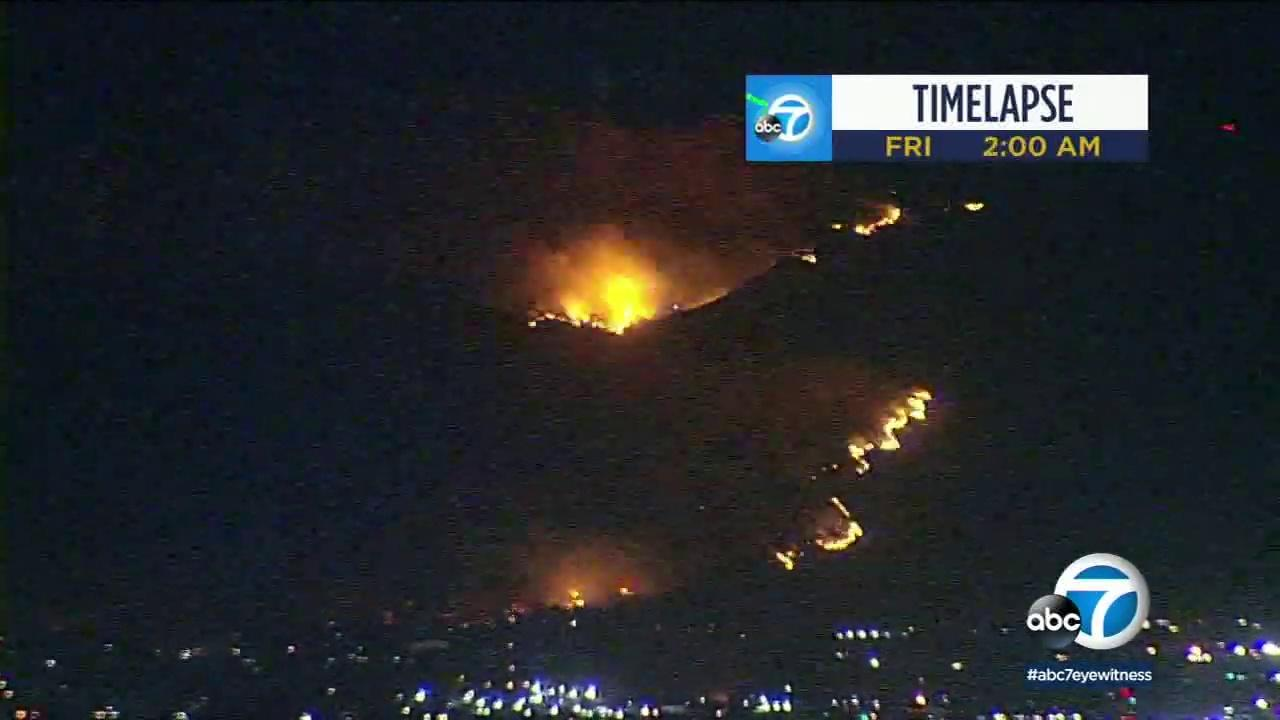Fire: (530, 237, 658, 339), (845, 389, 931, 475), (814, 493, 868, 556), (852, 204, 902, 237), (772, 548, 796, 573), (563, 588, 590, 610)
